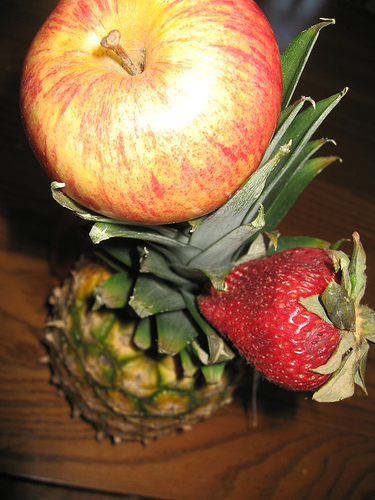pineapple: (33, 12, 356, 451)
